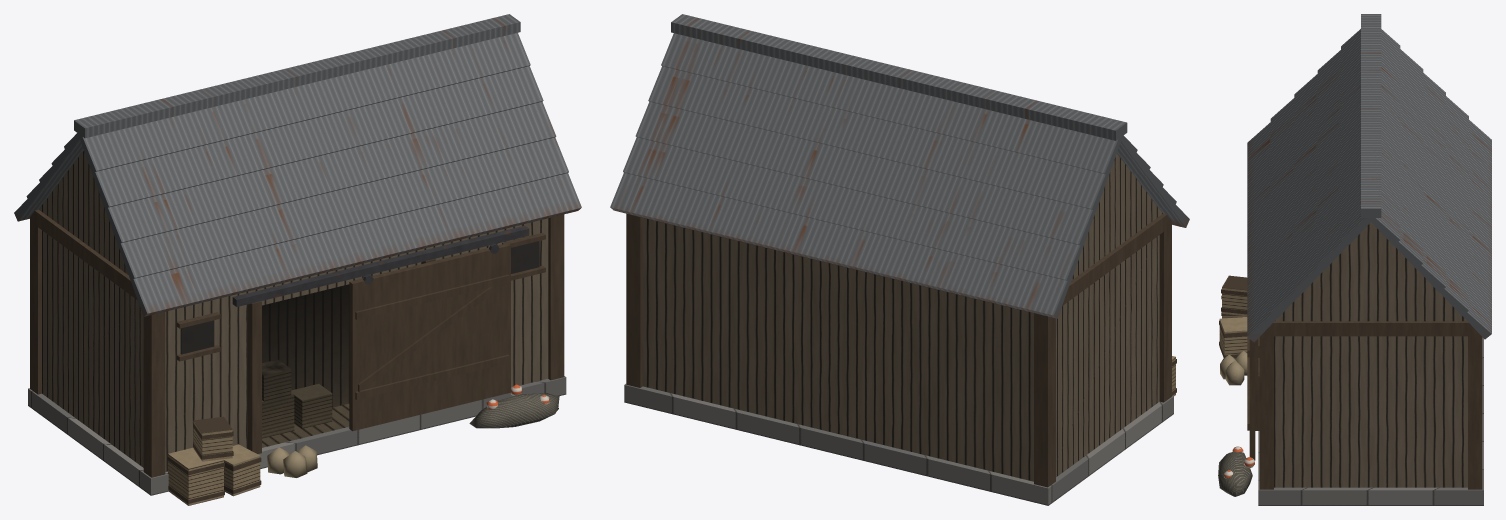
Rendered from 창고_회색함석.fbx.
3 renders of one model, left to right at view 1: azimuth 30°, elevation 25°; view 2: azimuth 150°, elevation 25°; view 3: azimuth 270°, elevation 25°, orthographic. The views are drawn at different scales.
Parts seen in each view (by area): view 1: 창고_회색함석; view 2: 창고_회색함석; view 3: 창고_회색함석.
Boxes of the visible parts, <box> form: 창고_회색함석: <box>14,14,581,505</box>; 창고_회색함석: <box>610,14,1189,505</box>; 창고_회색함석: <box>1218,14,1491,505</box>.
Size of the model in its own units: 1594 by 1150 by 946.
Materials: 13 (13 with a texture image).
